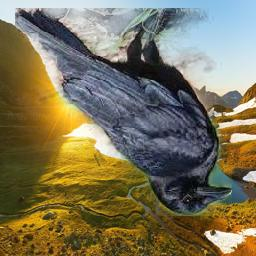Crow: (16, 8, 233, 216)
